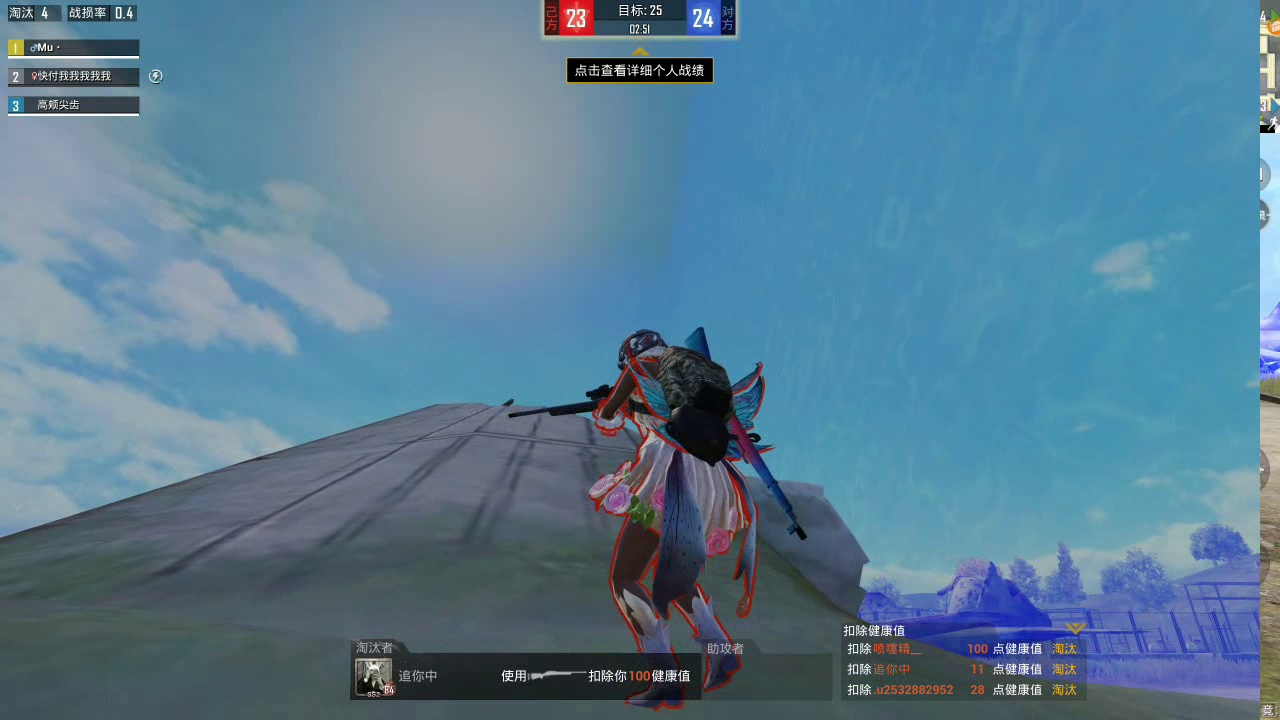enemy: (594, 328, 760, 704)
